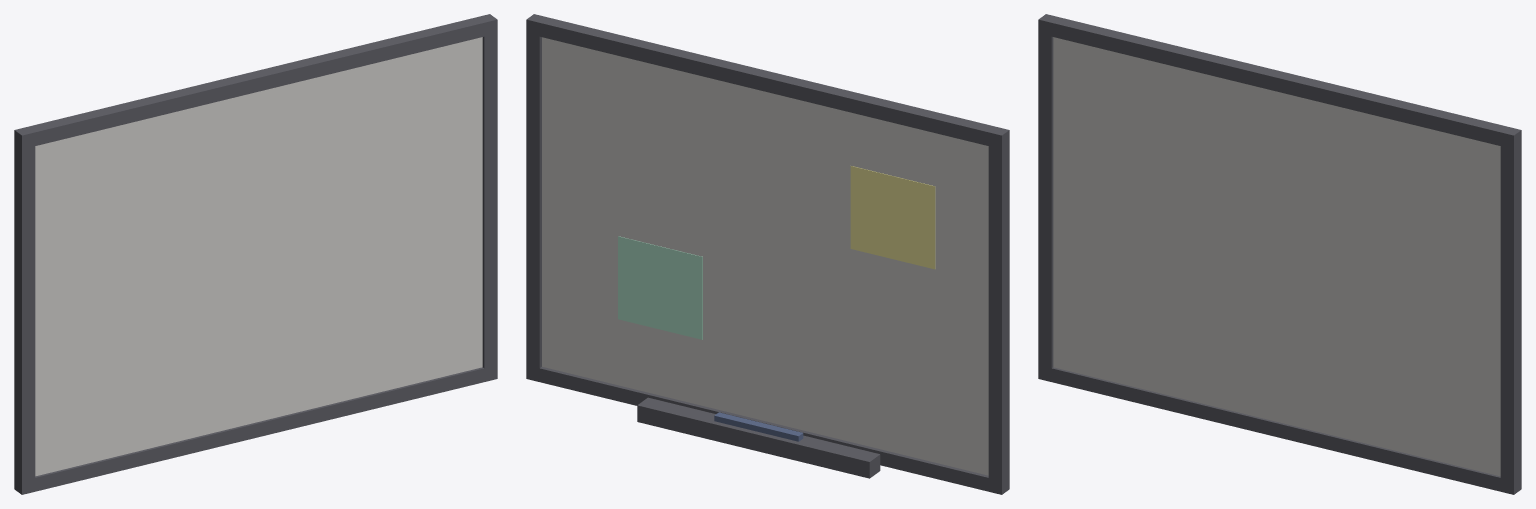
File: Whiteboard_Notice_Board.glb
3 views of the same model, side by side, from view 1: azimuth 30°, elevation 25°; view 2: azimuth 150°, elevation 25°; view 3: azimuth 330°, elevation 25° (orthographic).
Parts seen in each view (by area): view 1: Whiteboard_Notice_Board; view 2: Whiteboard_Notice_Board; view 3: Whiteboard_Notice_Board.
Boxes of the visible parts, <box> form: Whiteboard_Notice_Board: <box>14,14,497,494</box>; Whiteboard_Notice_Board: <box>526,14,1009,494</box>; Whiteboard_Notice_Board: <box>1038,14,1521,494</box>.
Bounding box in the file's own units: 0.9 × 0.66 × 0.06.
